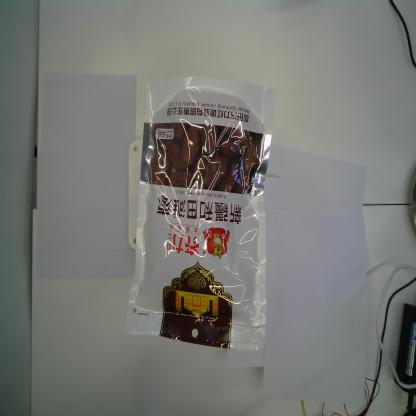Dried Food: (123, 70, 279, 353)
